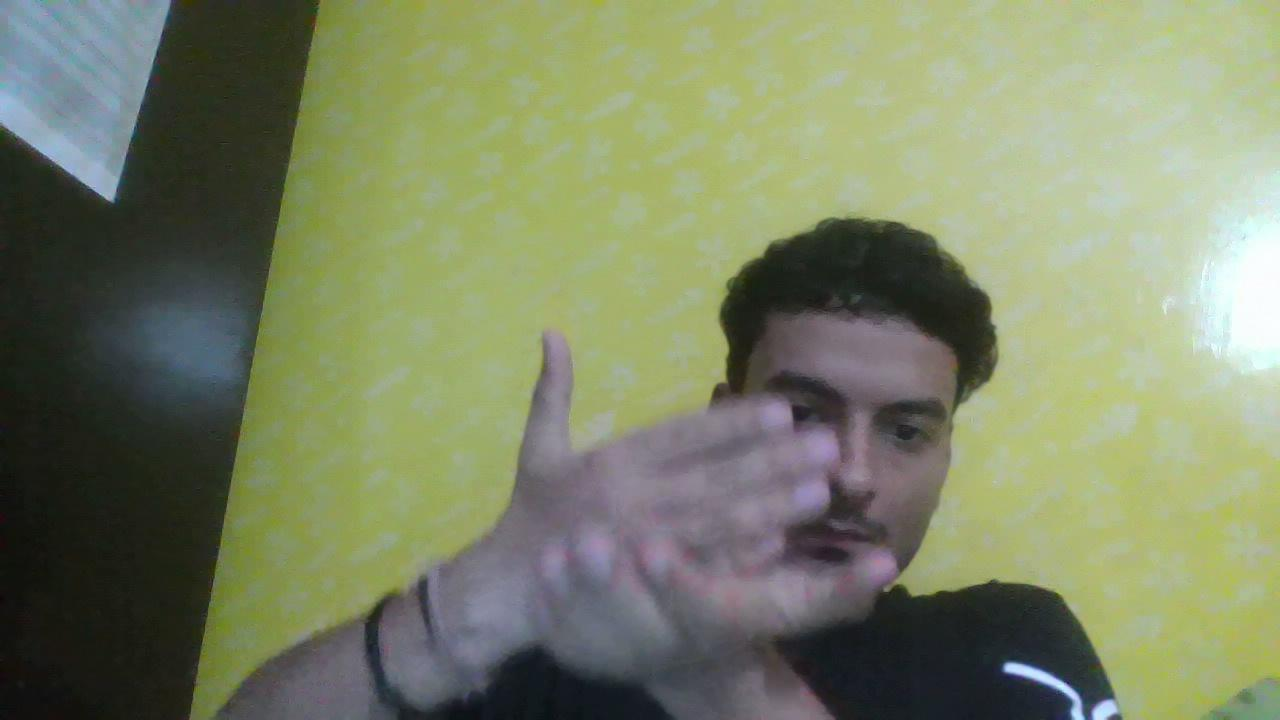stop: (491, 316, 901, 687)
